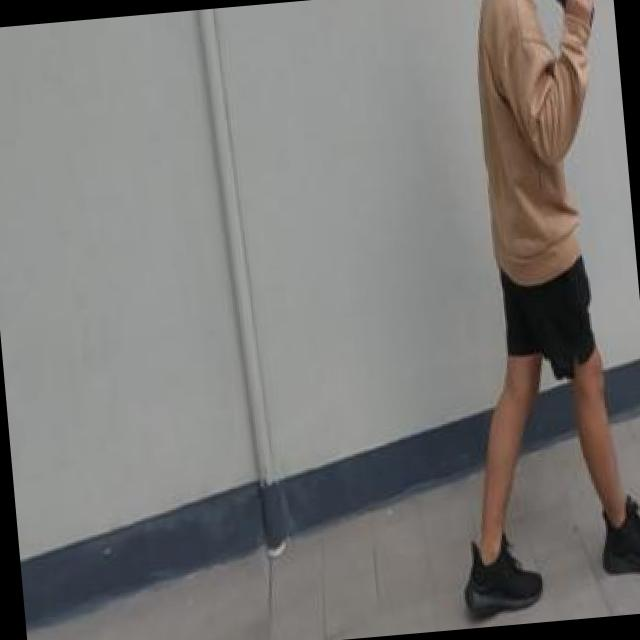Guns: (547, 0, 608, 17)
